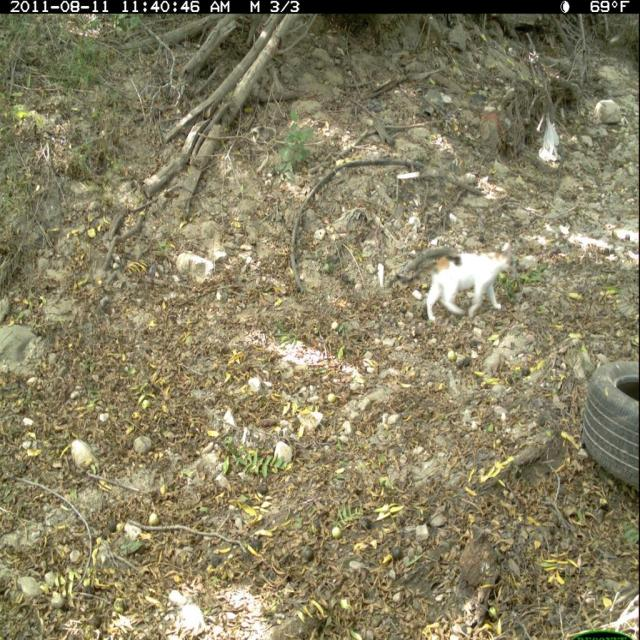cat: (394, 232, 522, 326)
